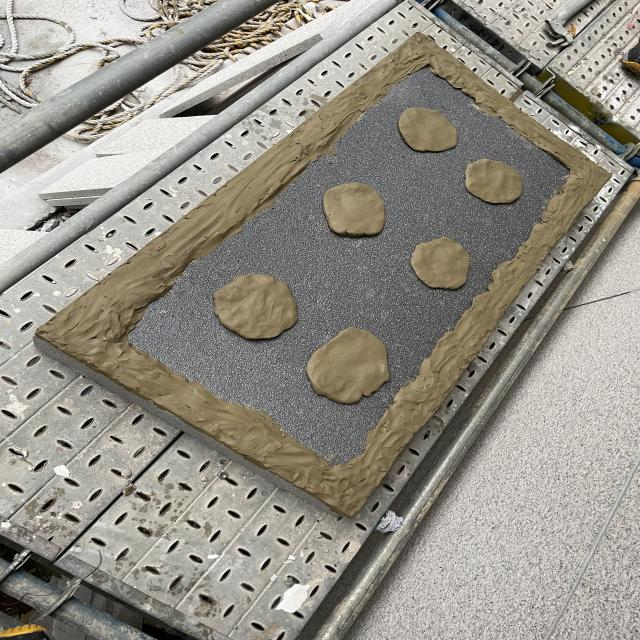dab: (306, 327, 390, 404), (213, 273, 298, 339), (323, 182, 385, 237), (410, 237, 470, 290), (398, 107, 458, 152), (465, 158, 523, 203)
insulation: (32, 32, 612, 518)
